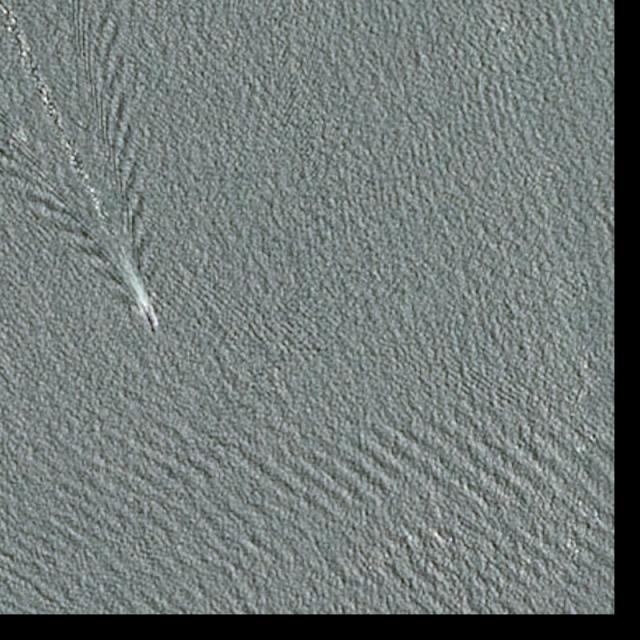ship: (149, 321, 157, 334)
